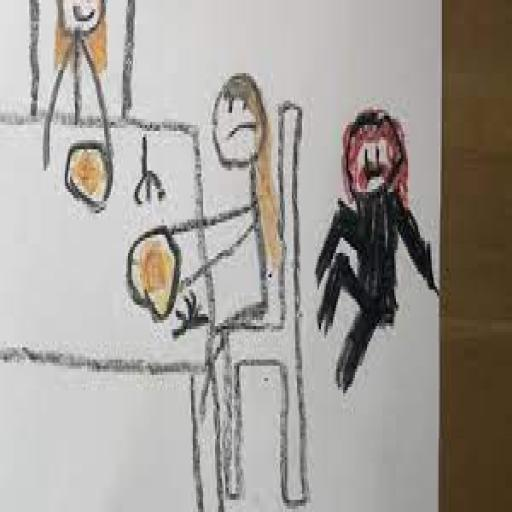person: (130, 75, 287, 357), (316, 74, 434, 399), (24, 3, 142, 218)
